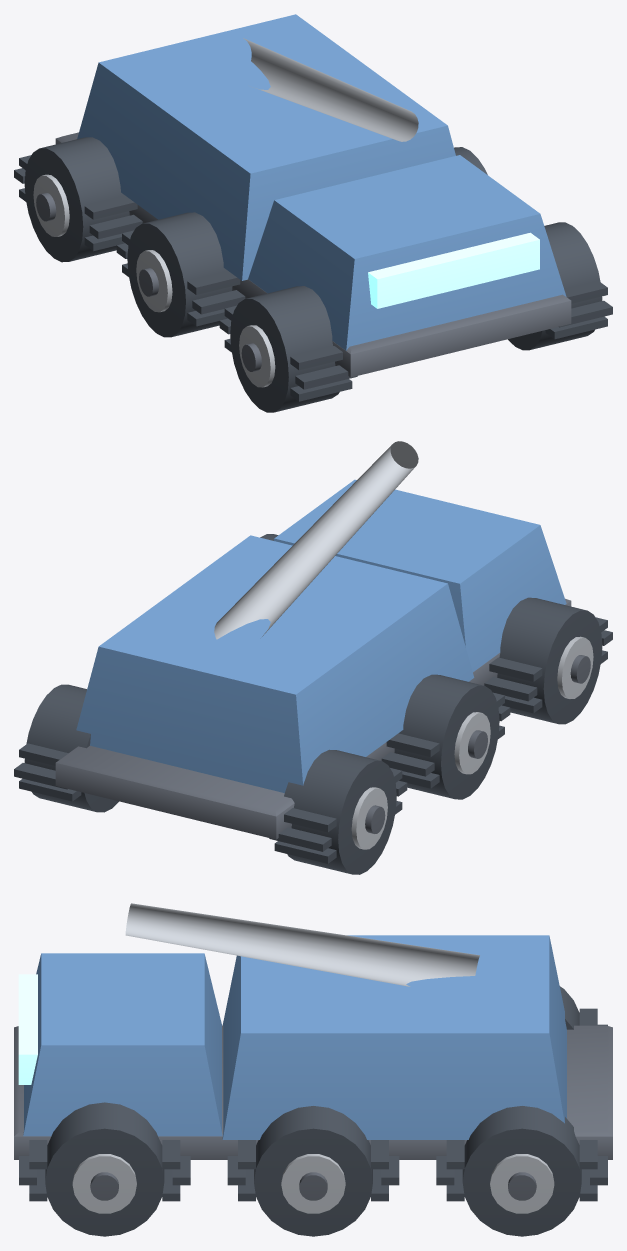
File: amcv.glb
3 renders of one model, top to bottom at view 1: azimuth 30°, elevation 25°; view 2: azimuth 150°, elevation 25°; view 3: azimuth 270°, elevation 25°, orthographic.
Parts seen in each view (by area): view 1: Hull; view 2: Hull; view 3: Hull.
Boxes of the visible parts, x1=… form: Hull: x1=14, y1=14, x2=612, y2=412; Hull: x1=14, y1=441, x2=612, y2=874; Hull: x1=14, y1=903, x2=612, y2=1236.
Bounding box in the file's own units: 2.08 × 1.48 × 3.17.
